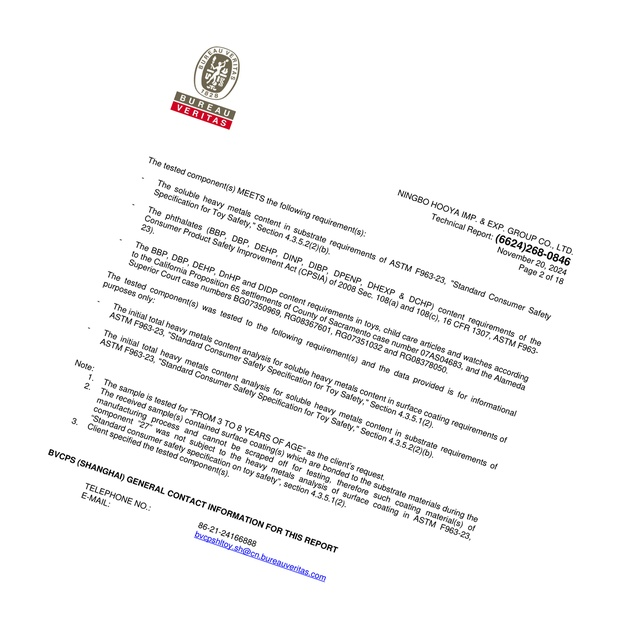bureau_veritas: (167, 45, 242, 133)
